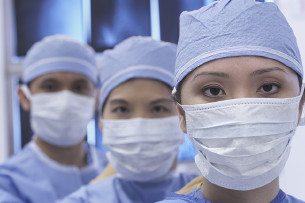face_mask: (183, 50, 297, 184), (103, 79, 176, 183), (30, 68, 94, 147)
